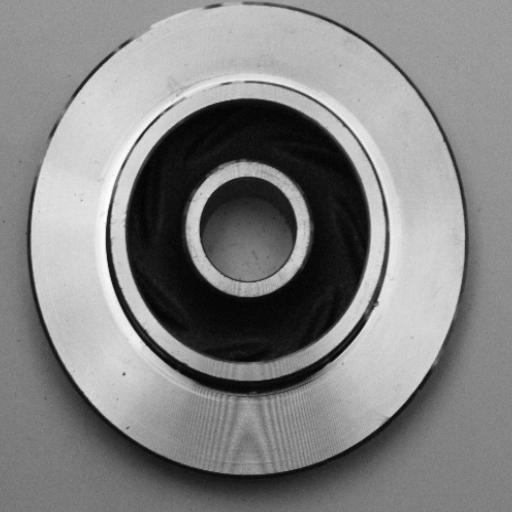scratch: (105, 0, 260, 40)
unpolished_casting: (28, 0, 472, 481)
